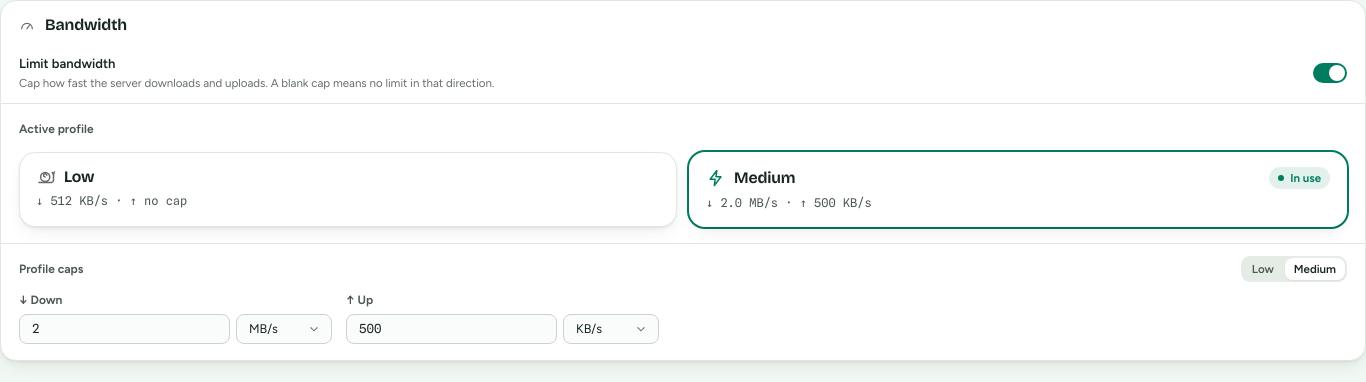
Test: BandwidthCard › switches limits and the profile at once, confirming beside the control
What coordinates should you click on to do the following:
click the switch named "Limit bandwidth"
I would click on:
 (1330, 73)
Its box is [1313,63,1347,83].
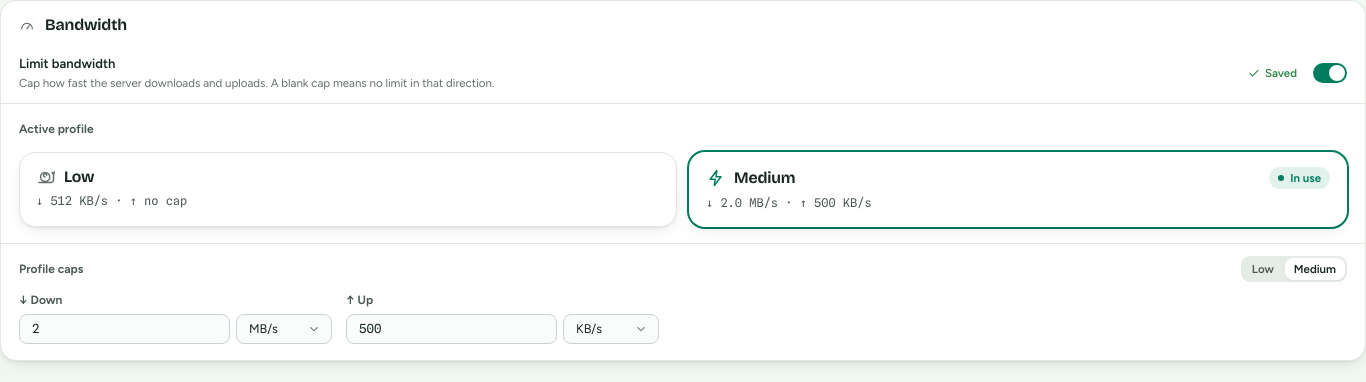
What coordinates should you click on to do the following:
click the button "Low ↓ 512 KB/s · ↑ no cap"
I would click on:
 (79, 177)
Its box is [19,152,677,227].
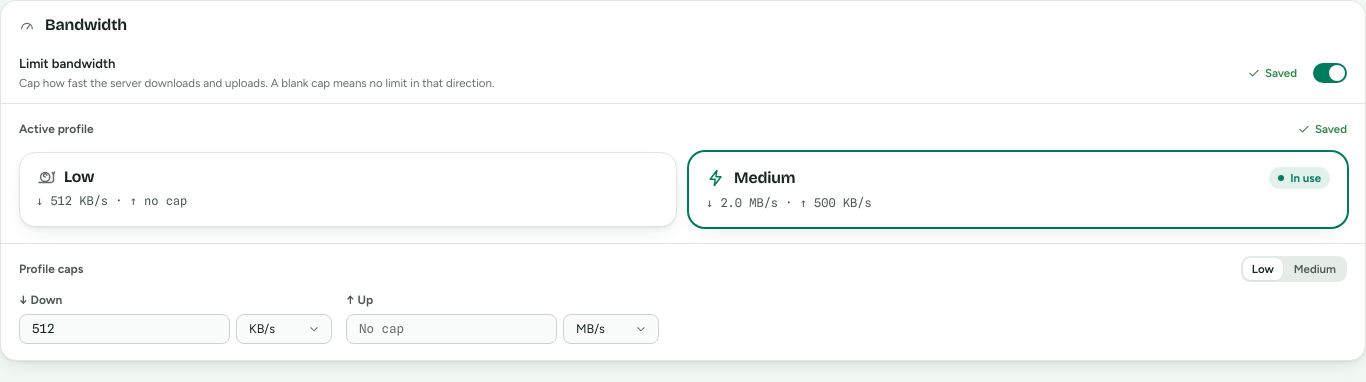
Check: the text "Saved" in the row of "Limit bandwidth" is shown, box [1265,66,1297,80]
Check: the field named "Download cap for Low" is shown, box [32,315,217,343]
